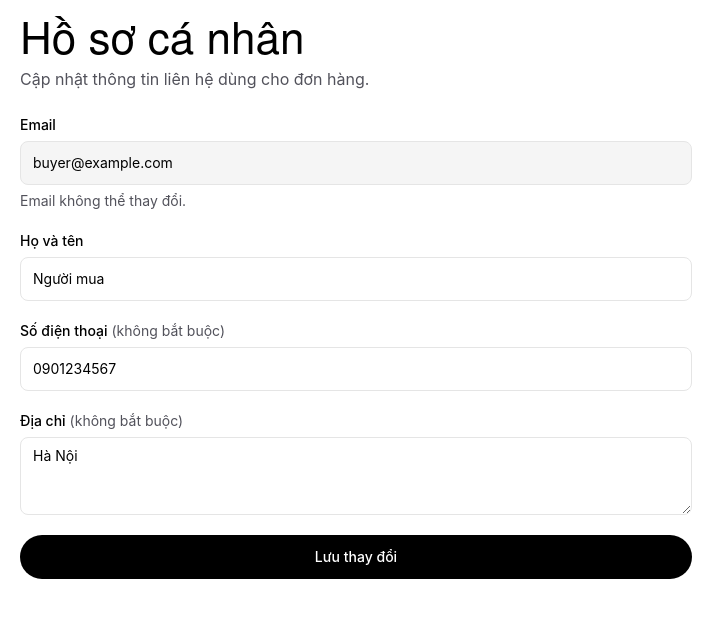
Test case: ProfilePage › keeps the entered value and shows the field error when the server rejects it
Replace the text in the field labelled "Họ và tên" with "Tên mới": (356, 279) [20,257,692,301]
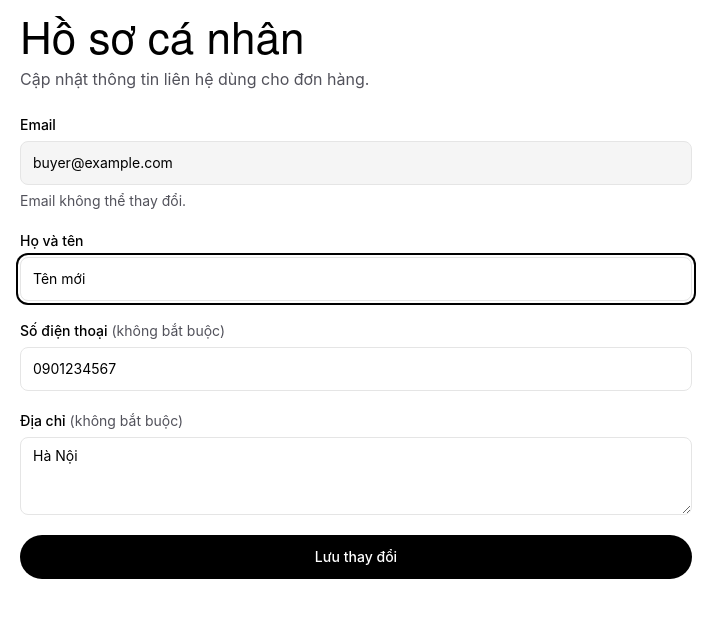
Click the button "Lưu thay đổi": (356, 557) [20,535,692,579]
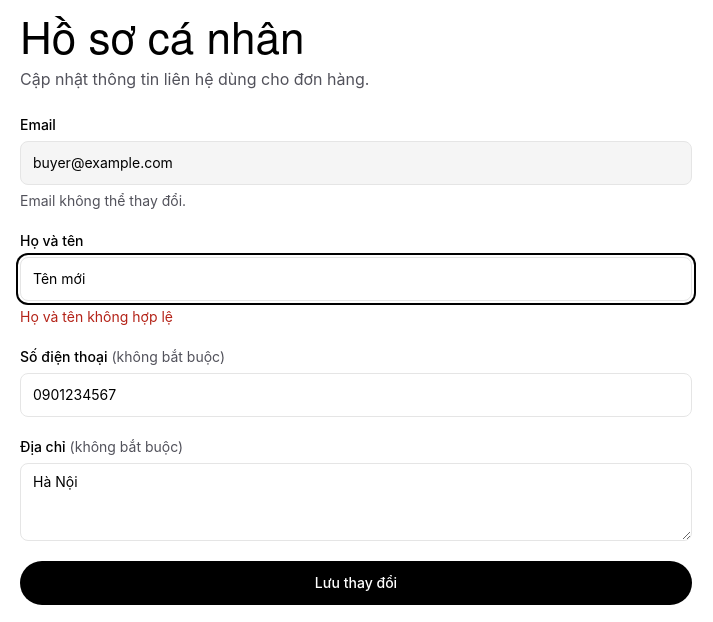
Check: the text "Họ và tên không hợp lệ" is shown, box [20,308,173,325]
